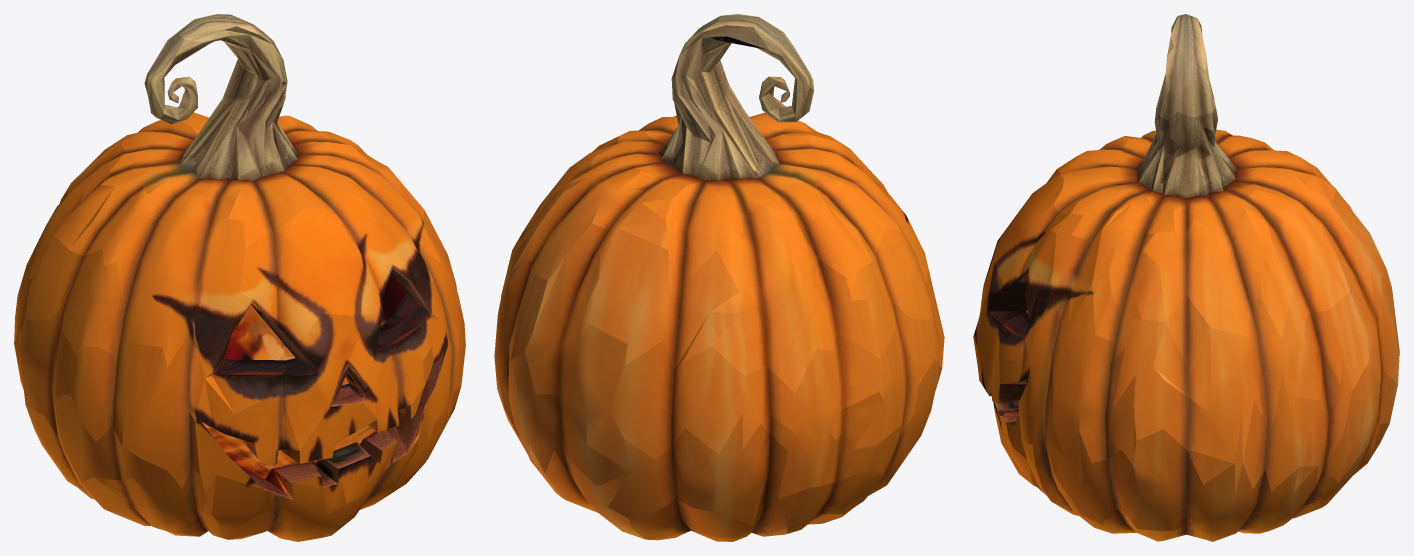
File: pumpkin_lantern.glb
The picture shows the model from 3 angles, left to right: view 1: azimuth 30°, elevation 25°; view 2: azimuth 150°, elevation 25°; view 3: azimuth 270°, elevation 25°; orthographic projection. The views are drawn at different scales.
Bounding box in the file's own units: 1.59 × 1.89 × 1.59.
1 material, 1 textured.
